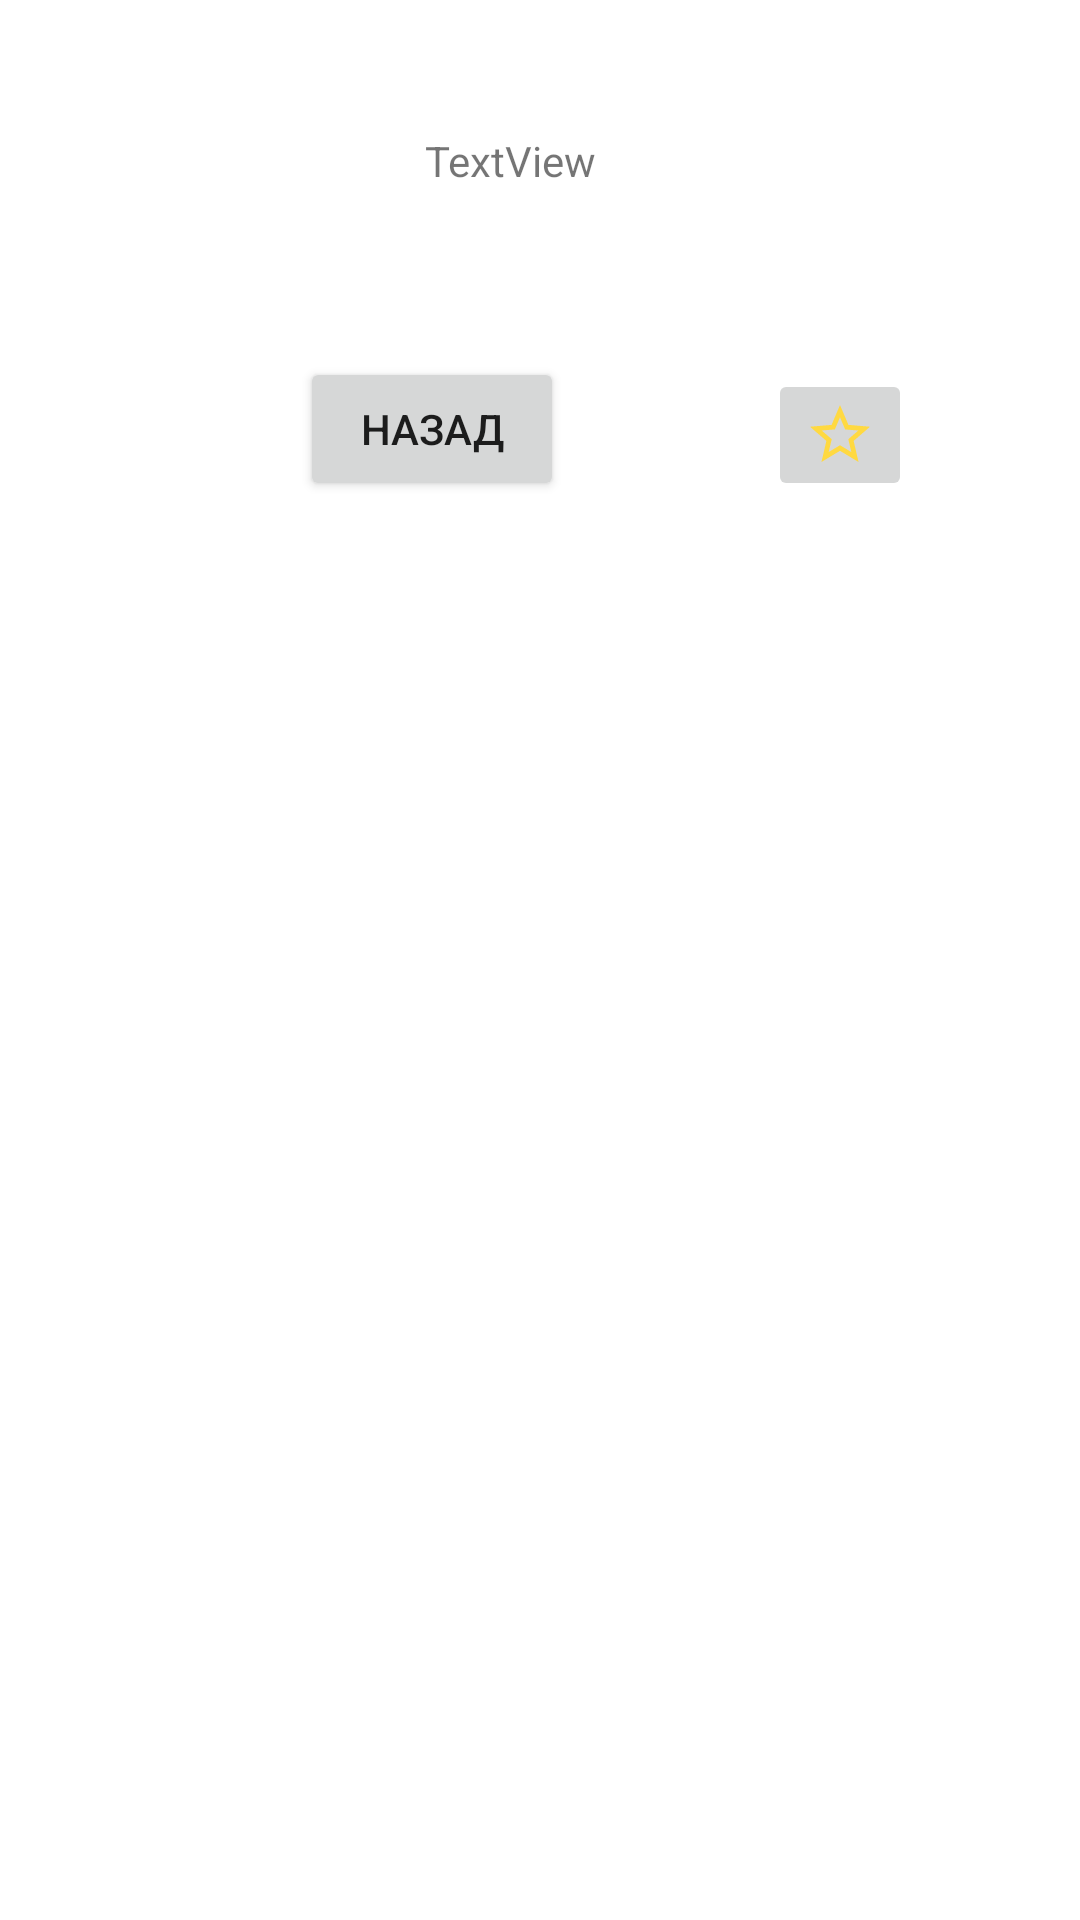

Locate icon controls on the screen. Image size 1080×1920, boxes as [x1=x1, y1=y1, x2=x2, y2=y2].
star border: [x1=780, y1=387, x2=900, y2=483]
